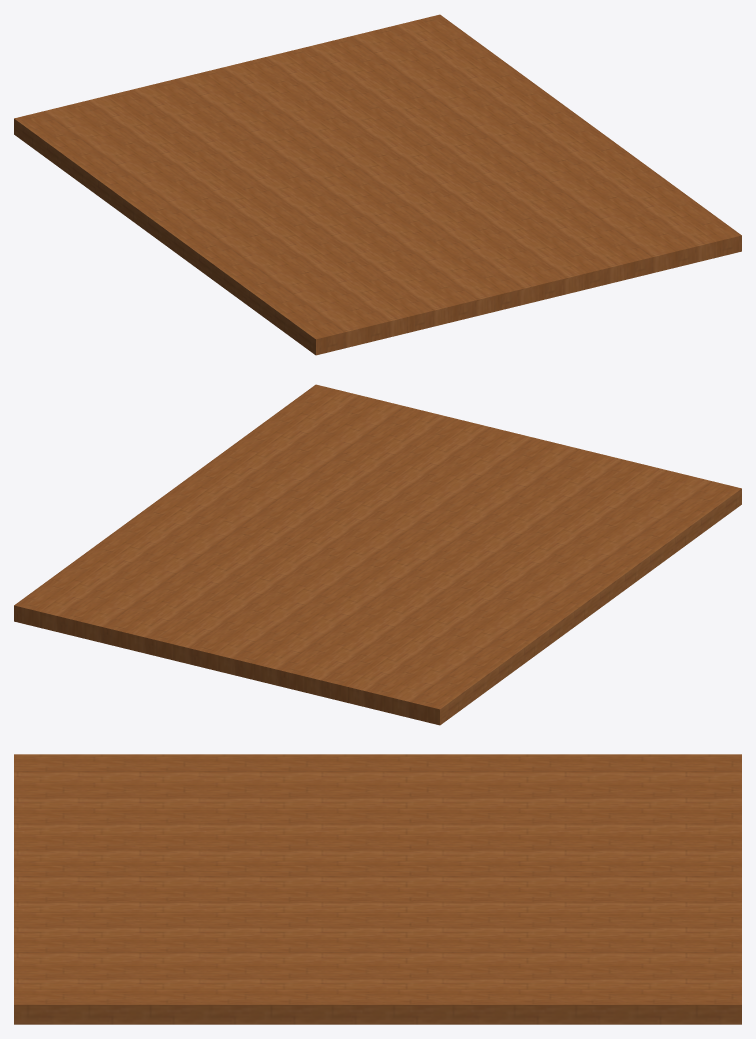
The model's file is floor_Tex.glb.
3 views of the same model, one above another, from view 1: azimuth 30°, elevation 25°; view 2: azimuth 150°, elevation 25°; view 3: azimuth 270°, elevation 25° (orthographic). The views are drawn at different scales.
Parts seen in each view (by area): view 1: Floor.001; view 2: Floor.001; view 3: Floor.001.
Part boxes in pixels (bbox=[...]): Floor.001: bbox=[14, 14, 741, 355]; Floor.001: bbox=[14, 384, 741, 725]; Floor.001: bbox=[14, 754, 741, 1024].
Bounding box in the file's own units: 7.34 × 0.2646 × 9.
1 material, 1 textured.
